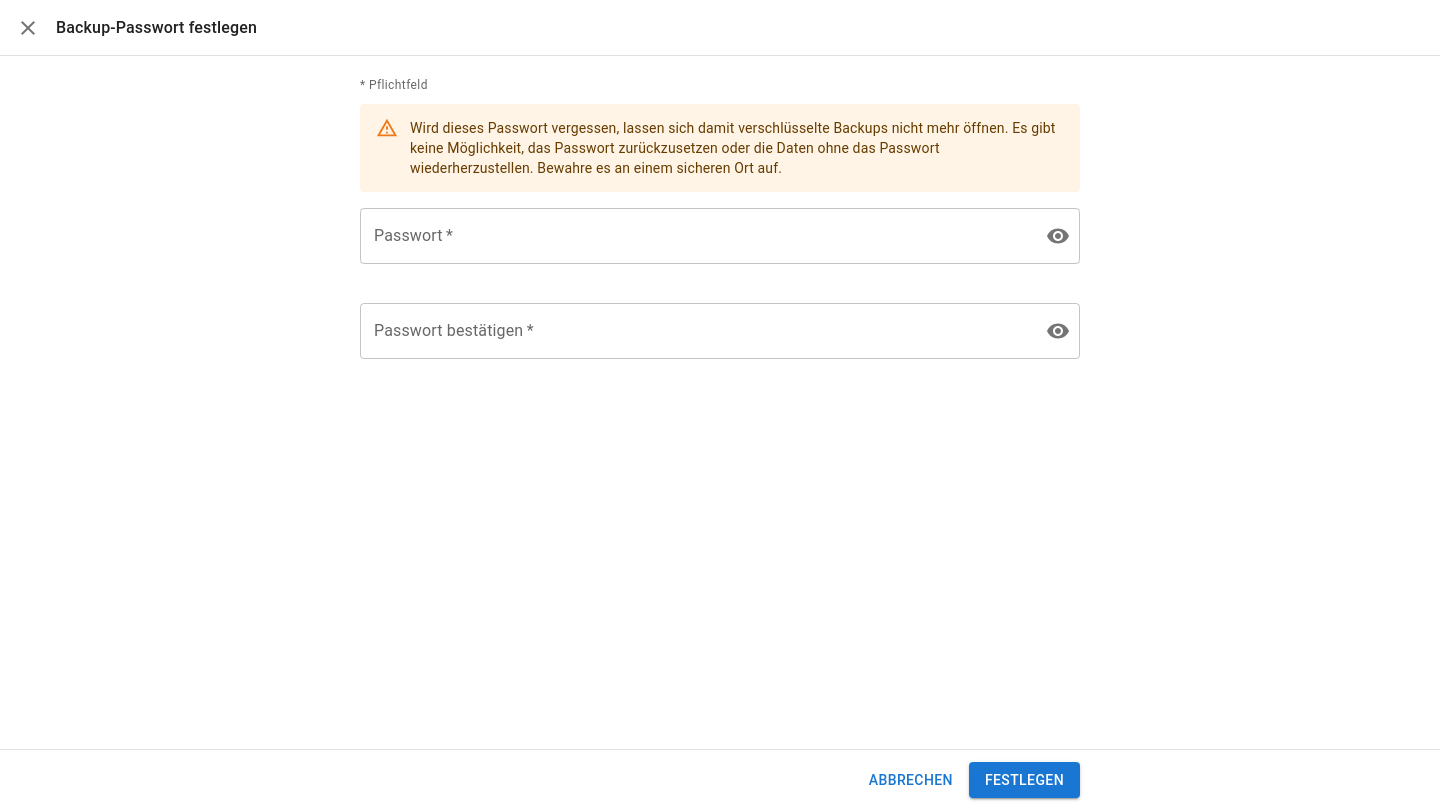
it: BackupPasswordDialog › set mode: blocks submission and shows an inline error when the confirmation field does not match
This screenshot has width=1440, height=810.
Type "geheimesPasswort" into the password field labelled "Passwort *" at (695,236), box x1=360 y1=208 x2=1030 y2=264
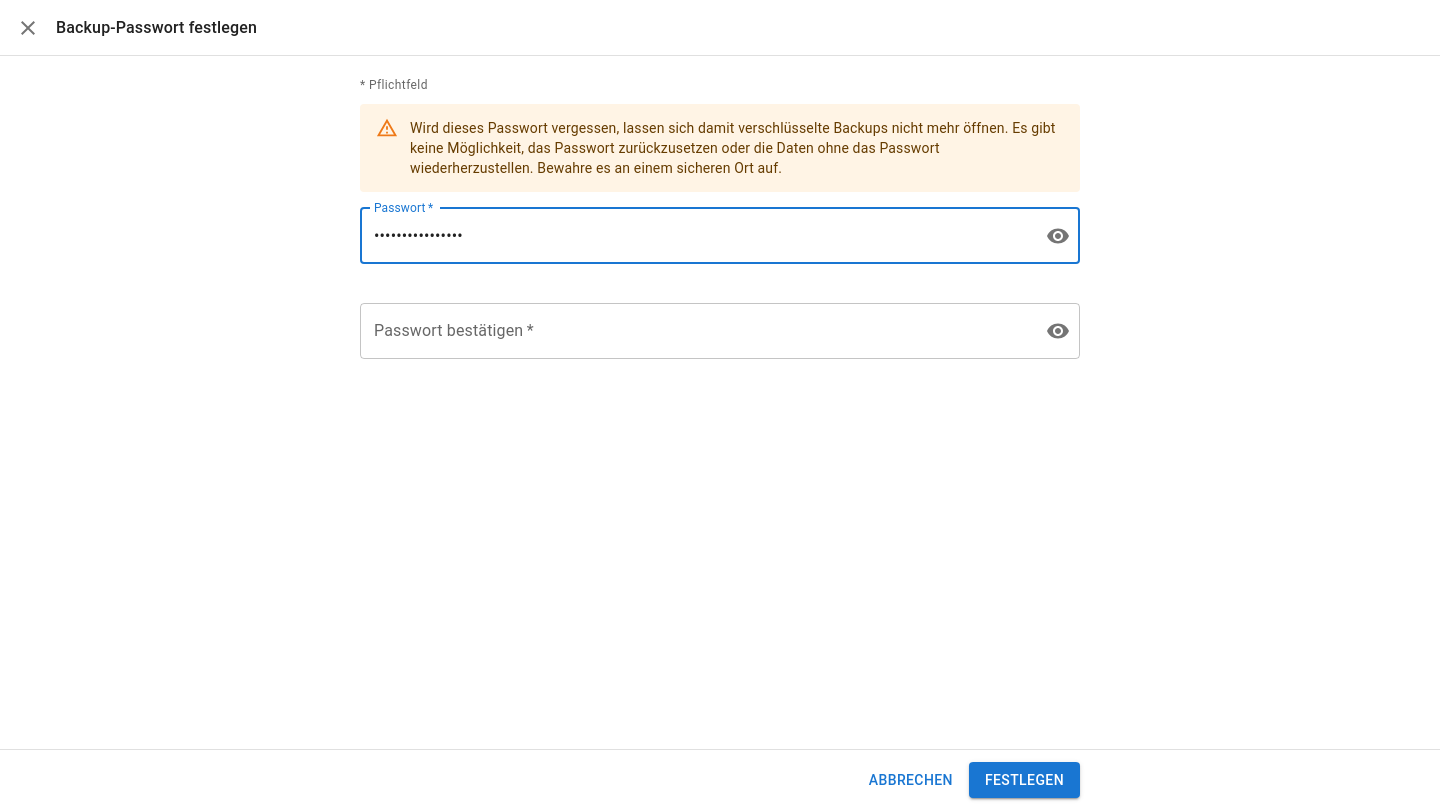
Type "einAnderesPasswort" into the password field labelled "Passwort bestätigen *" at (695,331), box x1=360 y1=303 x2=1030 y2=359
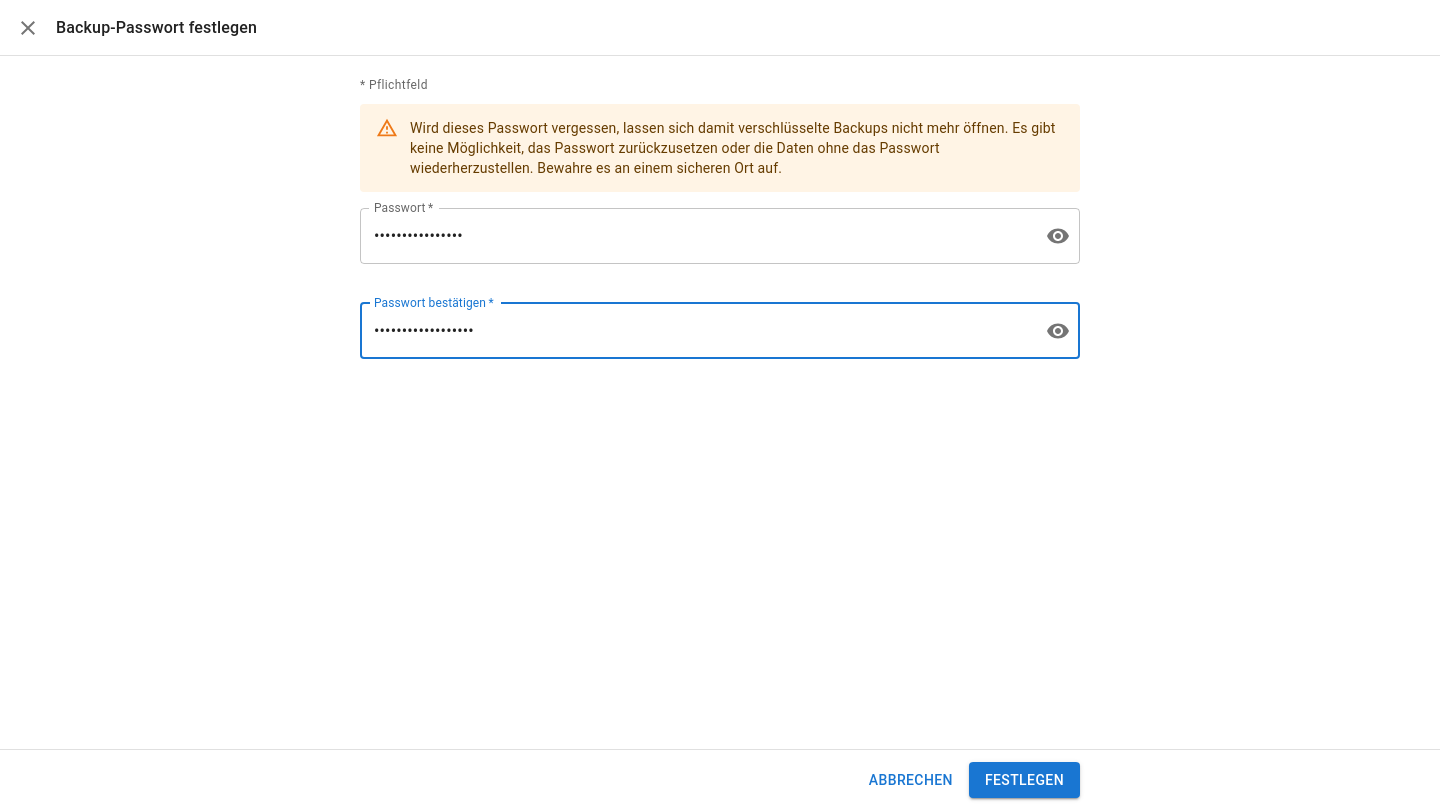
Click the button "Festlegen" at (1024,780), box x1=969 y1=762 x2=1080 y2=798
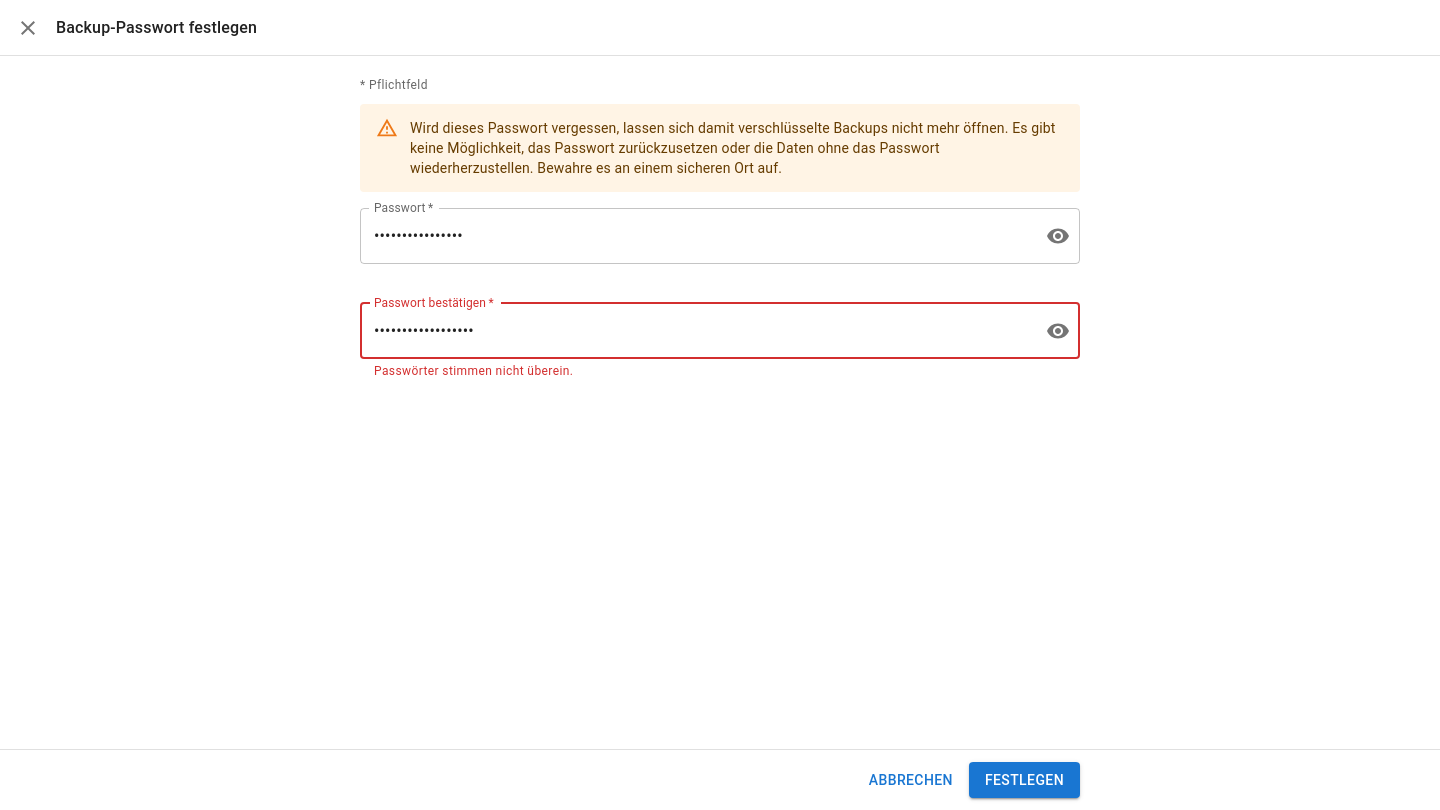
Result: the text "Passwörter stimmen nicht überein." is shown at x1=374 y1=364 x2=573 y2=378
